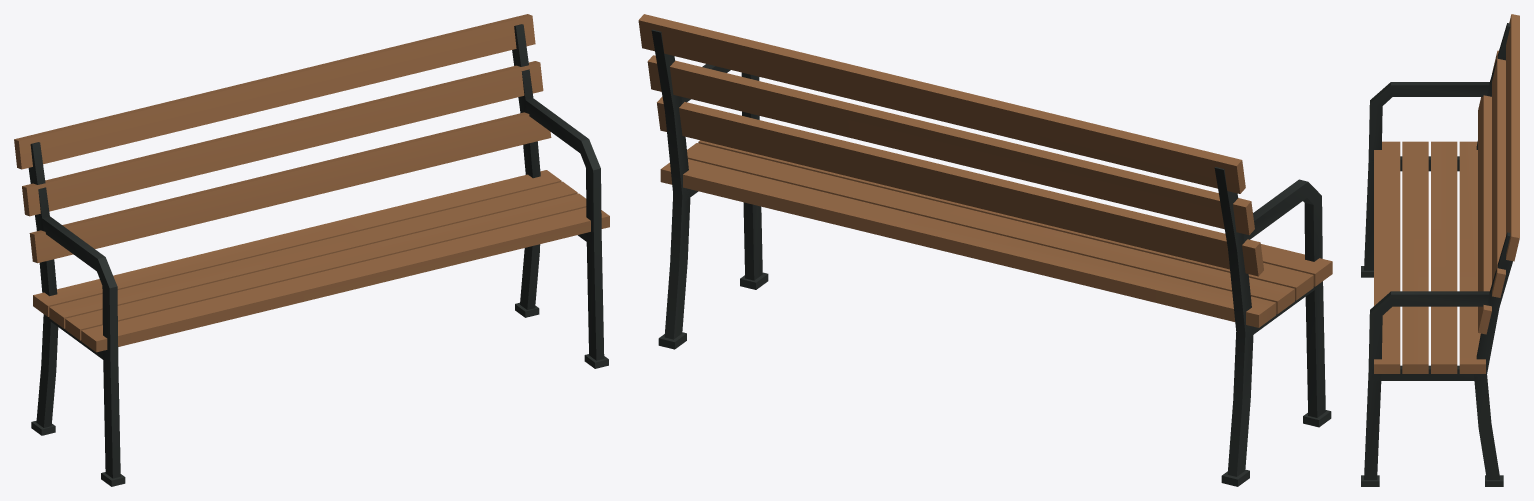
File: bench.far.glb
3 renders of one model, left to right at view 1: azimuth 30°, elevation 25°; view 2: azimuth 150°, elevation 25°; view 3: azimuth 270°, elevation 25°, orthographic. The views are drawn at different scales.
Parts seen in each view (by area): view 1: bench; view 2: bench; view 3: bench.
Boxes of the visible parts, left/top/right/bottom form: bench: left=14, top=14, right=609, bottom=486; bench: left=638, top=14, right=1332, bottom=486; bench: left=1361, top=14, right=1519, bottom=486.
Bounding box in the file's own units: 1.7 × 0.9075 × 0.5125.
